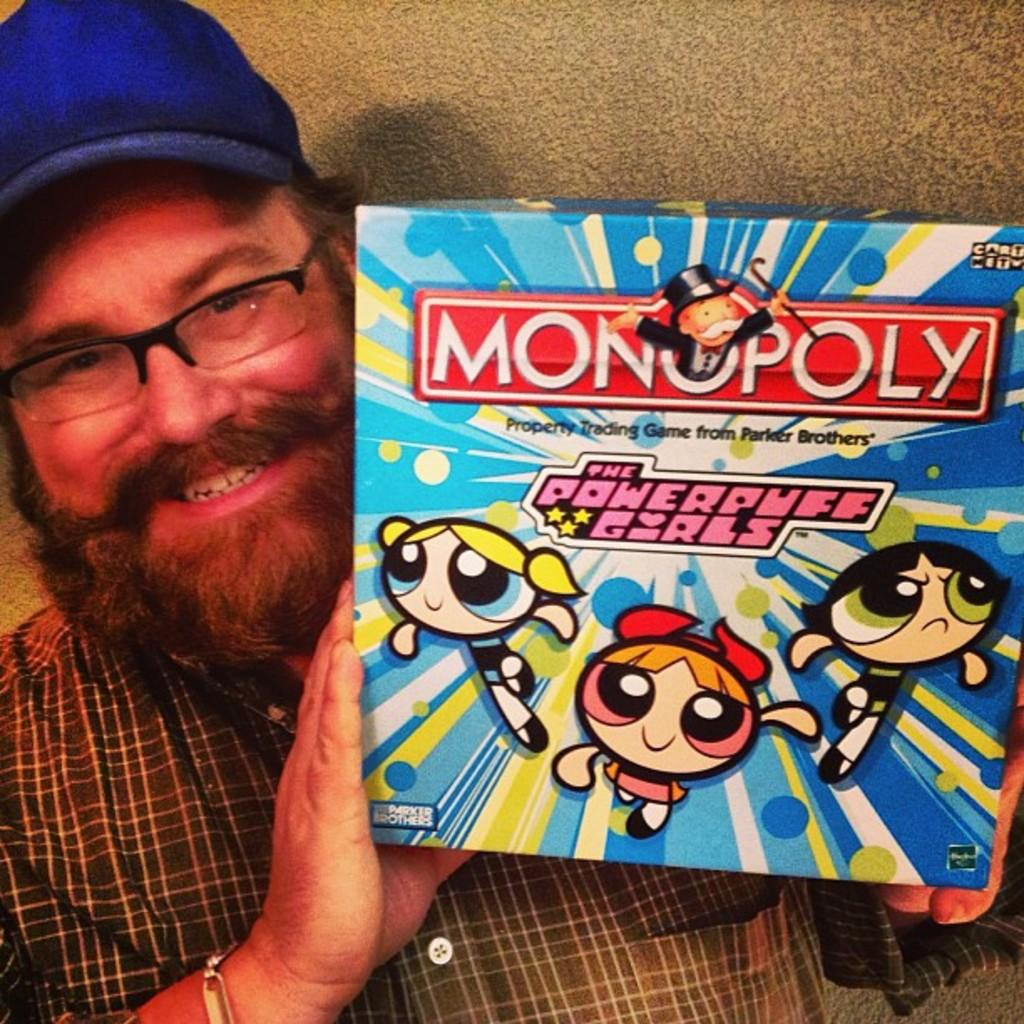Hat: (0, 0, 304, 242), (662, 264, 739, 329)
